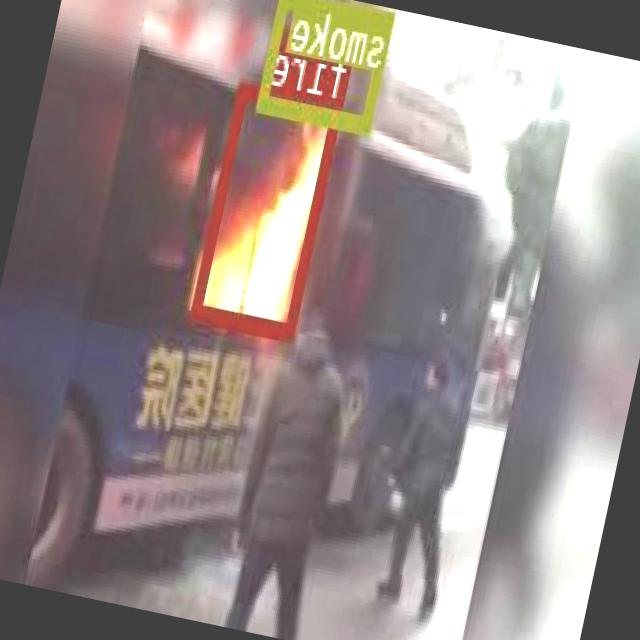fire: (193, 81, 344, 338)
smoke: (258, 0, 397, 131)
